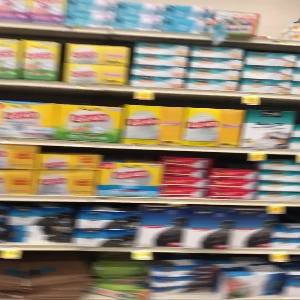void: (258, 1, 296, 36)
